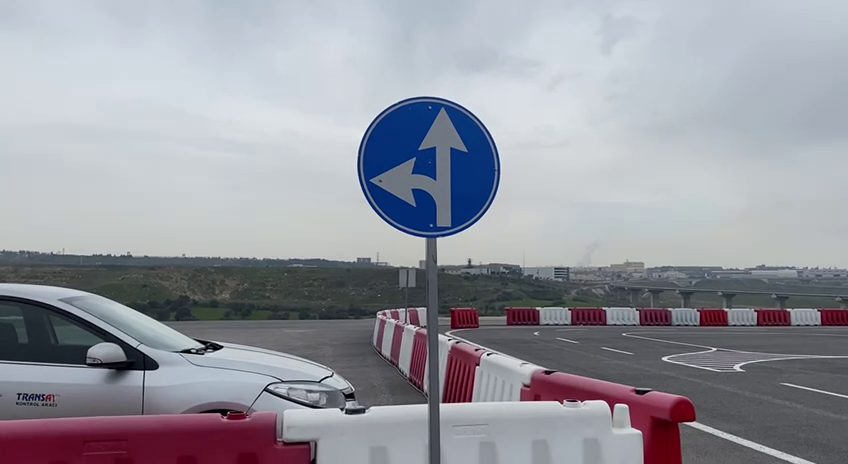forwardAndLeft: (350, 90, 507, 244)
